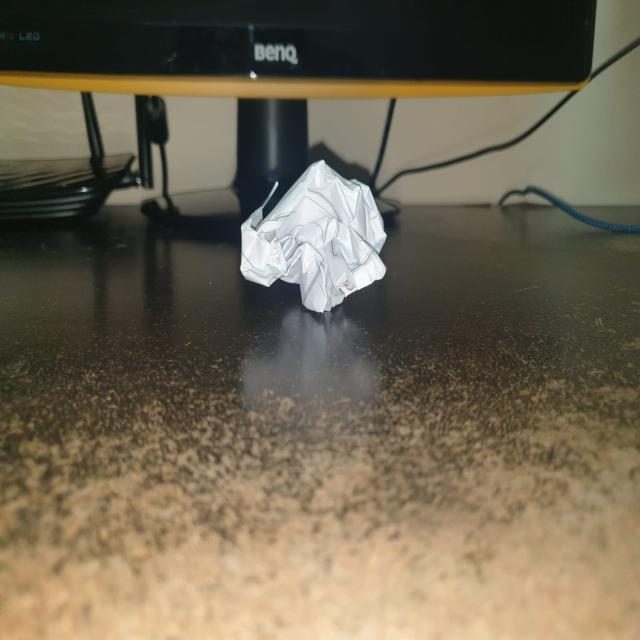Paper: (242, 156, 387, 310)
